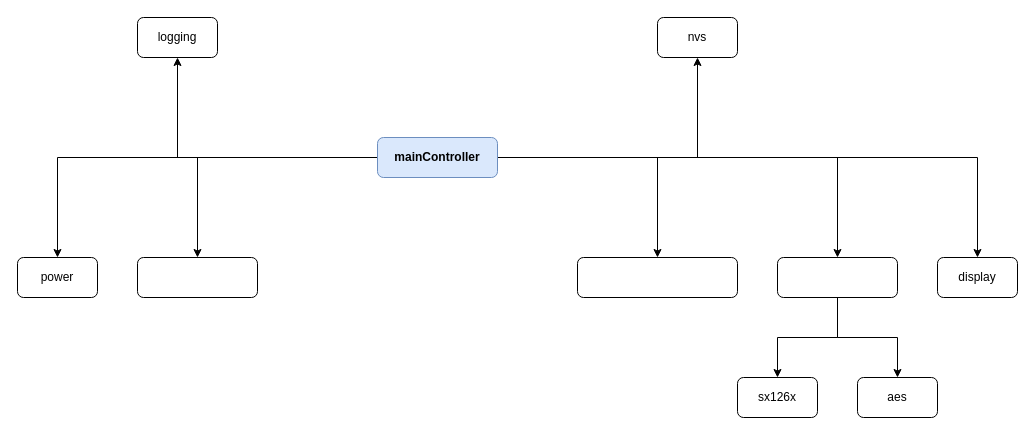
This 1035x435 diagram has some shape labels left out. Here are the shapes that lost their labels. From the top down, the centre of each, then its label:
At pixel 197 277: "sensorCollection".
At pixel 657 277: "measurementCollection".
At pixel 837 277: "LoRaWAN".
